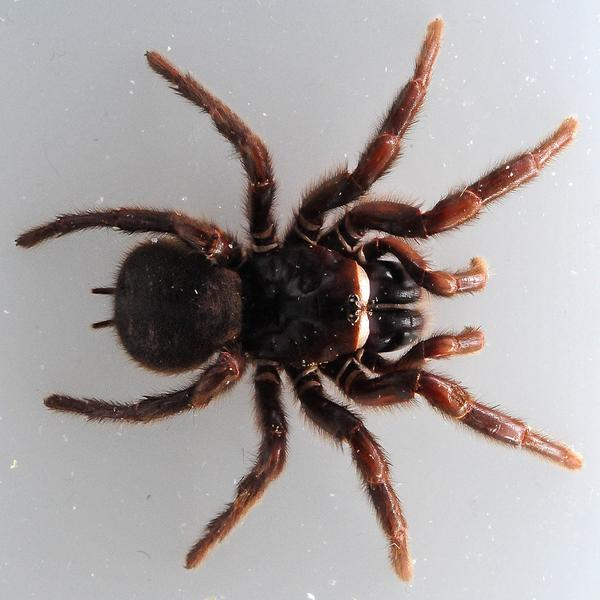Sydney_Funnel_Web_Spider: (13, 18, 582, 581)
